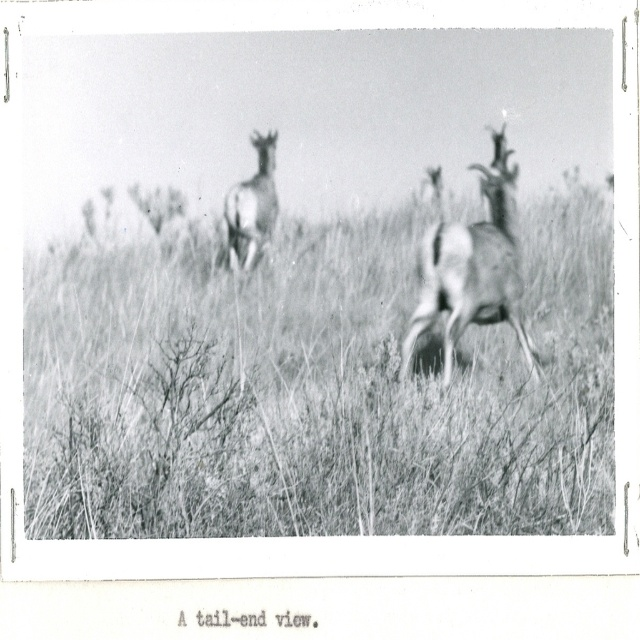Deer: (405, 125, 542, 397), (223, 133, 283, 279)
